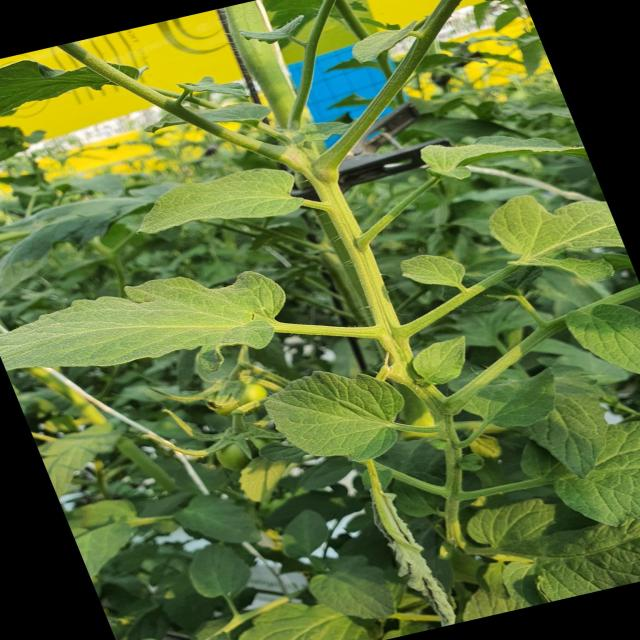Healthy Leaf: (0, 271, 329, 387), (264, 354, 414, 467), (477, 193, 640, 291), (123, 165, 322, 244), (450, 362, 563, 437), (303, 554, 402, 628), (175, 495, 270, 552)
